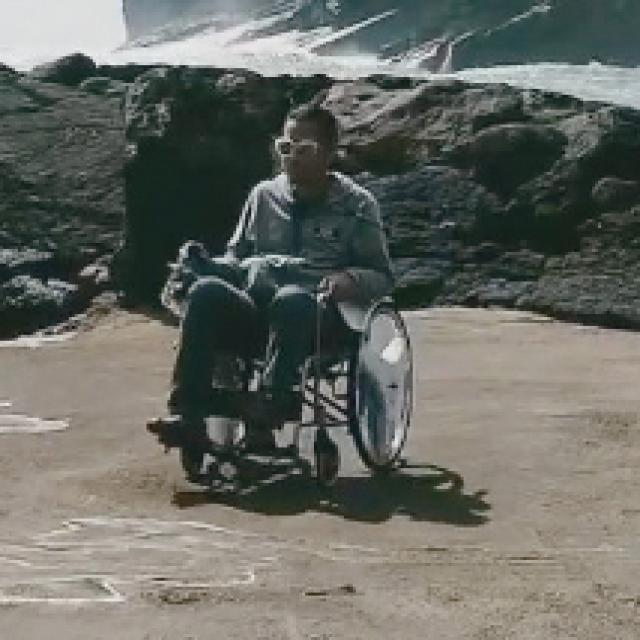wheelchair: (149, 105, 418, 495)
